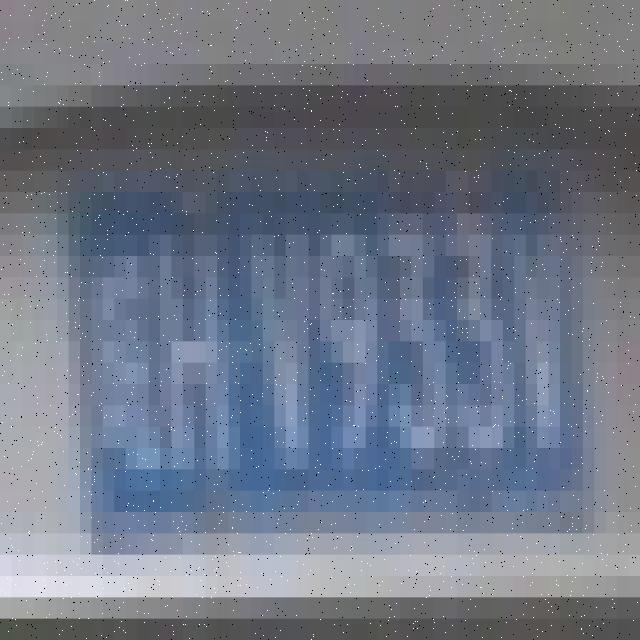licenseplate: (68, 190, 586, 518)
